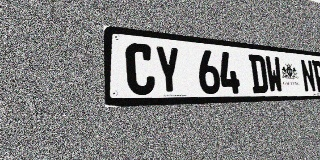4: (218, 51, 241, 94)
6: (197, 49, 221, 94)
C: (125, 42, 156, 95)
D: (248, 54, 269, 93)
N: (300, 59, 316, 92)
P: (312, 60, 320, 92)
W: (265, 56, 284, 93)
Y: (154, 45, 182, 95)
